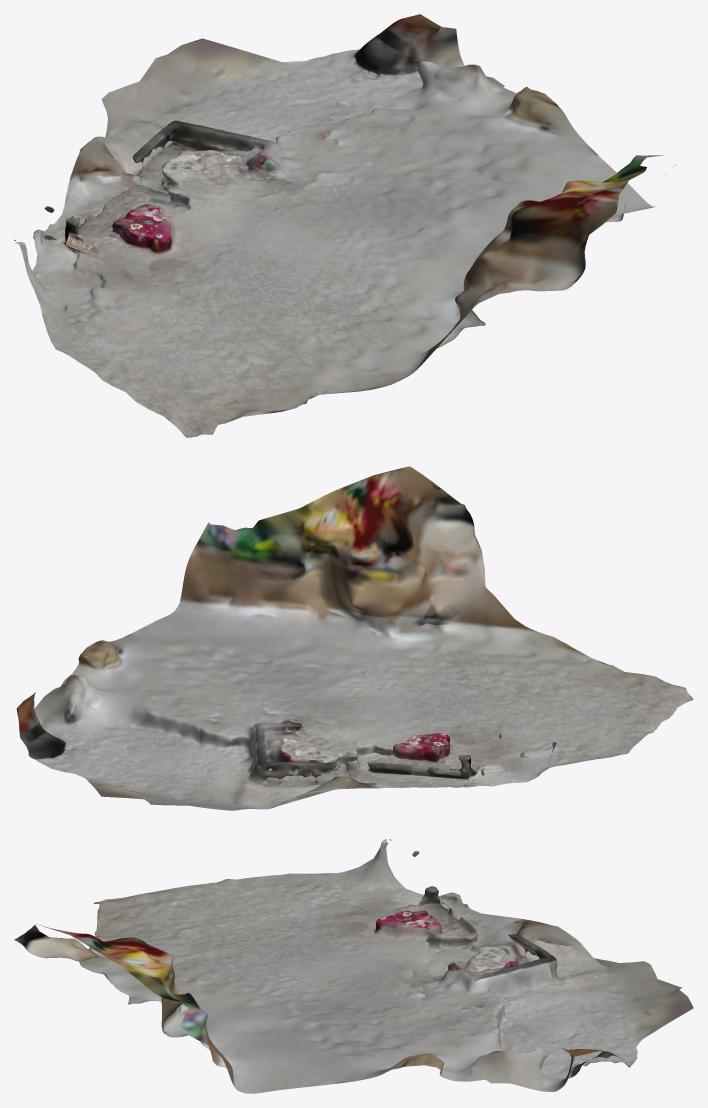
3 renders of one model, top to bottom at view 1: azimuth 30°, elevation 25°; view 2: azimuth 150°, elevation 25°; view 3: azimuth 270°, elevation 25°, orthographic. The views are drawn at different scales.
Bounding box in the file's own units: 3.55 × 0.9442 × 4.37.
Materials: 1 (1 with a texture image).
